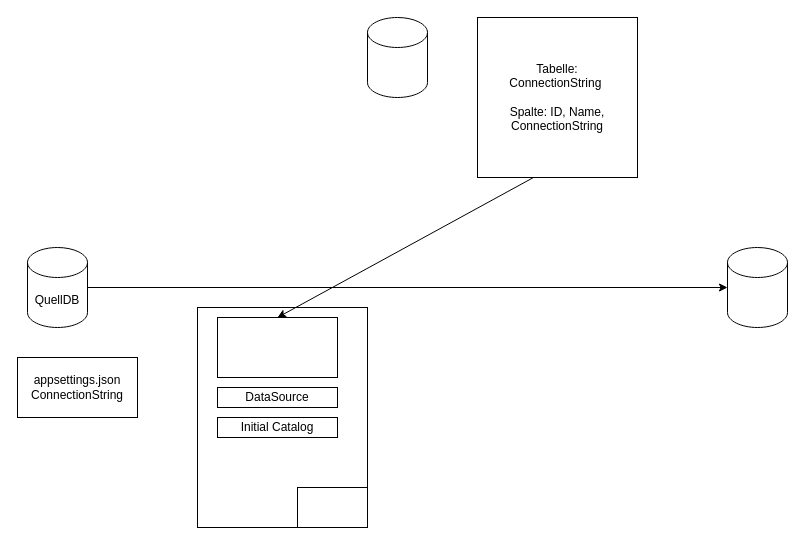
The diagram is 805 pixels wide and 545 high, and some of its shapes have lost their labels. Each missing label, with the box of its shape:
Auswahl aller bestehenden schon erstellen ConnectionString: (216, 316, 338, 378)
Next >: (296, 486, 368, 528)
Ziel DB: (726, 246, 788, 328)
